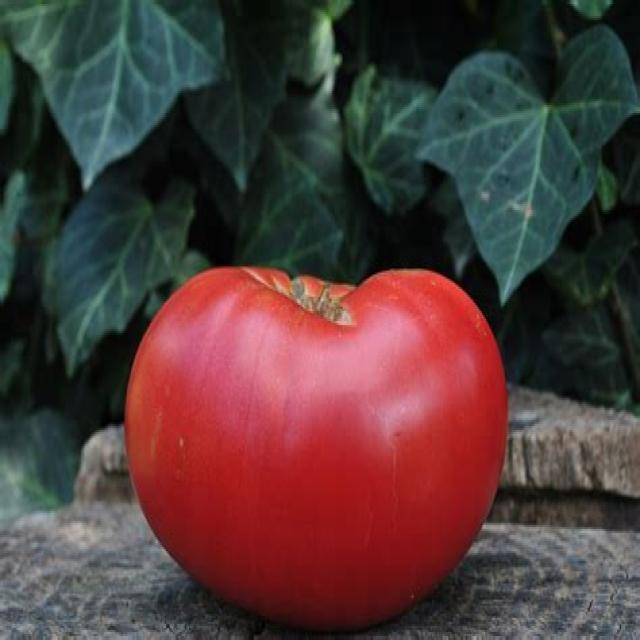Tomato: (124, 268, 510, 637)
